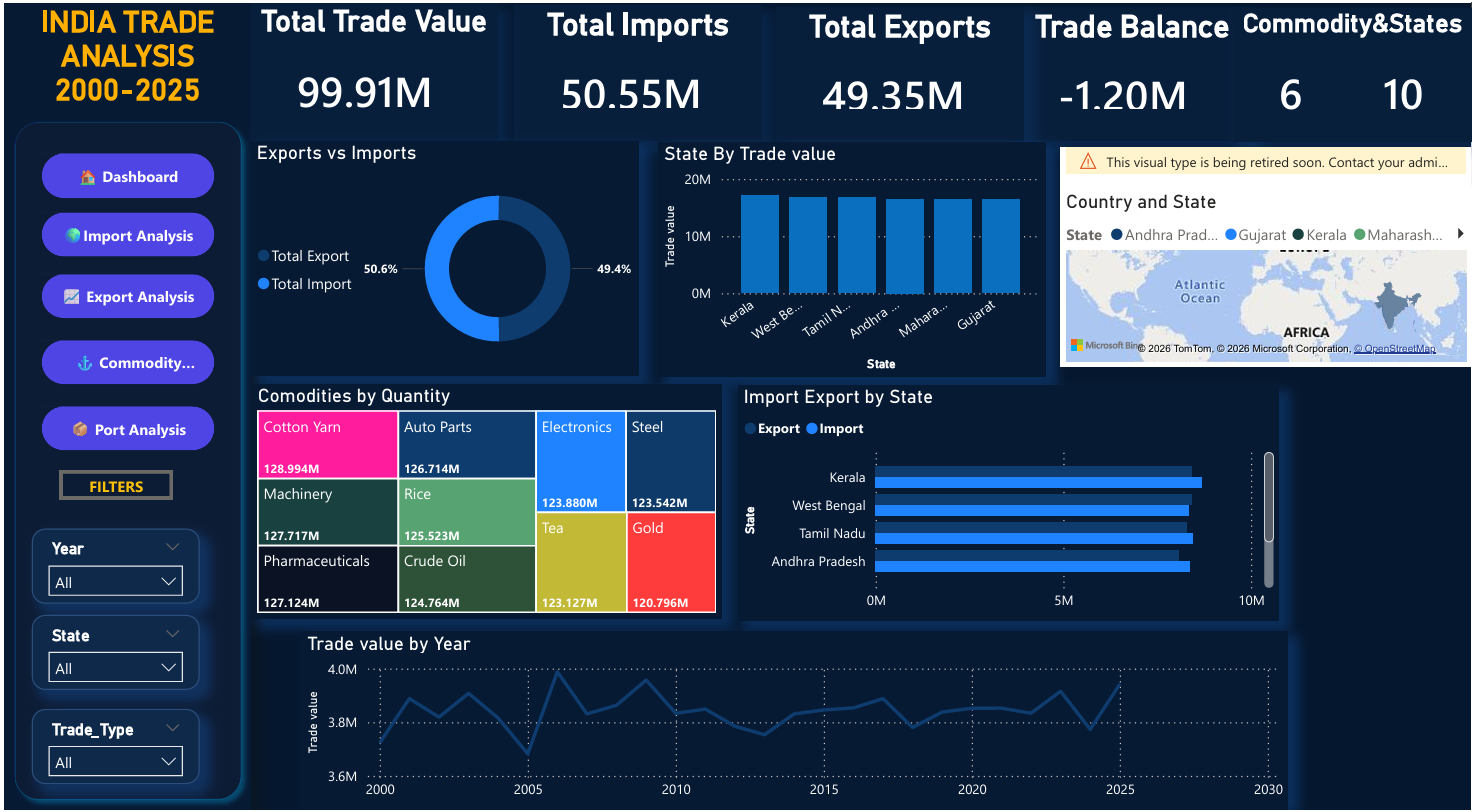

Layout of this report page (visuals, bound fields, positions):
{"tool":"powerbi","page":{"name":"Page 1","canvas":[1310,720],"ordinal":0},"visuals":[{"type":"shape","title":"INDIA TRADE ANALYSIS  2000-2025","box":[0,1.4,219.5,718.4],"z":0},{"type":"actionButton","box":[32.9,134.5,153.7,39.8],"z":1000},{"type":"actionButton","box":[32.9,241.5,153.7,39.8],"z":2000},{"type":"actionButton","box":[32.9,186.6,153.7,39.8],"z":3000},{"type":"actionButton","box":[32.9,300.5,153.7,39.8],"z":4000},{"type":"actionButton","box":[32.9,359.5,153.7,39.8],"z":5000},{"type":"shape","box":[207.2,0,12,719],"z":6000},{"type":"actionButton","box":[49.4,417.2,100.2,26.1],"z":7000},{"type":"slicer","fields":{"Values":["india_trade_analysis_country_india_2000_2025.Year"]},"box":[24.2,469,149.7,67],"z":8000},{"type":"slicer","fields":{"Values":["india_trade_analysis_country_india_2000_2025.State"]},"box":[24.2,545.9,149.7,67],"z":9000},{"type":"slicer","fields":{"Values":["india_trade_analysis_country_india_2000_2025.Trade_Type"]},"box":[24.2,630,149.7,67],"z":10000},{"type":"cardVisual","title":"Total Imports","fields":{"Data":["india_trade_analysis_country_india_2000_2025.Total Import"]},"box":[454.8,2.4,220.8,120.6],"z":11000},{"type":"cardVisual","title":"Trade Balance","fields":{"Data":["india_trade_analysis_country_india_2000_2025.Trades Balance"]},"box":[900,3.6,213.5,119.4],"z":12000},{"type":"cardVisual","title":"Total Exports","fields":{"Data":["india_trade_analysis_country_india_2000_2025.Total Export"]},"box":[688.9,3.6,220.8,119.4],"z":13000},{"type":"cardVisual","title":"Total Trade Value","fields":{"Data":["india_trade_analysis_country_india_2000_2025.Total Trades value"]},"box":[219.6,0,220.8,123.1],"z":14000},{"type":"donutChart","title":"Exports vs Imports","fields":{"Y":["india_trade_analysis_country_india_2000_2025.Total Export","india_trade_analysis_country_india_2000_2025.Total Import"]},"box":[219.6,123.1,346.2,208.7],"z":15000},{"type":"columnChart","title":"State By Trade value","fields":{"Y":["Sum(india_trade_analysis_country_india_2000_2025.Trade_Value_USD_Mn)"],"Category":["india_trade_analysis_country_india_2000_2025.State"]},"box":[583.9,124.3,346.2,208.7],"z":16000},{"type":"cardVisual","title":"Commodity&States","fields":{"Data":["india_trade_analysis_country_india_2000_2025.Total State","india_trade_analysis_country_india_2000_2025.Total Commodity"]},"box":[1096.7,4.8,213.5,119.4],"z":17000},{"type":"treemap","title":"Comodities by Quantity","fields":{"Details":["india_trade_analysis_country_india_2000_2025.Commodity"],"Values":["Sum(india_trade_analysis_country_india_2000_2025.Quantity)"]},"box":[221.1,340,418.9,208.9],"z":18000},{"type":"clusteredBarChart","title":"Import Export by State","fields":{"Category":["india_trade_analysis_country_india_2000_2025.State"],"Y":["Sum(india_trade_analysis_country_india_2000_2025.Trade_Value_USD_Mn)"],"Series":["india_trade_analysis_country_india_2000_2025.Trade_Type"]},"box":[655,341.2,483,210],"z":19000},{"type":"filledMap","fields":{"Category":["india_trade_analysis_country_india_2000_2025.Country","india_trade_analysis_country_india_2000_2025.Trade_Type"],"Series":["india_trade_analysis_country_india_2000_2025.State"]},"box":[942.5,128.8,367.5,196.2],"z":20000},{"type":"lineChart","title":"Trade value by Year","fields":{"Category":["india_trade_analysis_country_india_2000_2025.Year"],"Y":["Sum(india_trade_analysis_country_india_2000_2025.Trade_Value_USD_Mn)"]},"box":[265,561.2,881.2,158.8],"z":21000}]}

Visuals, with their boxes in screenshot pixels (x1, y1, x2, y2), scaled from the page's 1310x720 canvas onto the 1475x812 screenshot:
"INDIA TRADE ANALYSIS  2000-2025" shape: left=0, top=2, right=247, bottom=811
actionButton: left=37, top=152, right=210, bottom=197
actionButton: left=37, top=272, right=210, bottom=317
actionButton: left=37, top=210, right=210, bottom=255
actionButton: left=37, top=339, right=210, bottom=384
actionButton: left=37, top=405, right=210, bottom=450
shape: left=233, top=0, right=247, bottom=811
actionButton: left=56, top=471, right=168, bottom=500
slicer - india_trade_analysis_country_india_2000_2025.Year: left=27, top=529, right=196, bottom=604
slicer - india_trade_analysis_country_india_2000_2025.State: left=27, top=616, right=196, bottom=691
slicer - india_trade_analysis_country_india_2000_2025.Trade_Type: left=27, top=710, right=196, bottom=786
"Total Imports" cardVisual: left=512, top=3, right=761, bottom=139
"Trade Balance" cardVisual: left=1013, top=4, right=1254, bottom=139
"Total Exports" cardVisual: left=776, top=4, right=1024, bottom=139
"Total Trade Value" cardVisual: left=247, top=0, right=496, bottom=139
"Exports vs Imports" donutChart: left=247, top=139, right=637, bottom=374
"State By Trade value" columnChart: left=657, top=140, right=1047, bottom=376
"Commodity&States" cardVisual: left=1235, top=5, right=1474, bottom=140
"Comodities by Quantity" treemap: left=249, top=383, right=721, bottom=619
"Import Export by State" clusteredBarChart: left=738, top=385, right=1281, bottom=622
filledMap - india_trade_analysis_country_india_2000_2025.Country x india_trade_analysis_country_india_2000_2025.Trade_Type: left=1061, top=145, right=1474, bottom=367
"Trade value by Year" lineChart: left=298, top=633, right=1291, bottom=811
